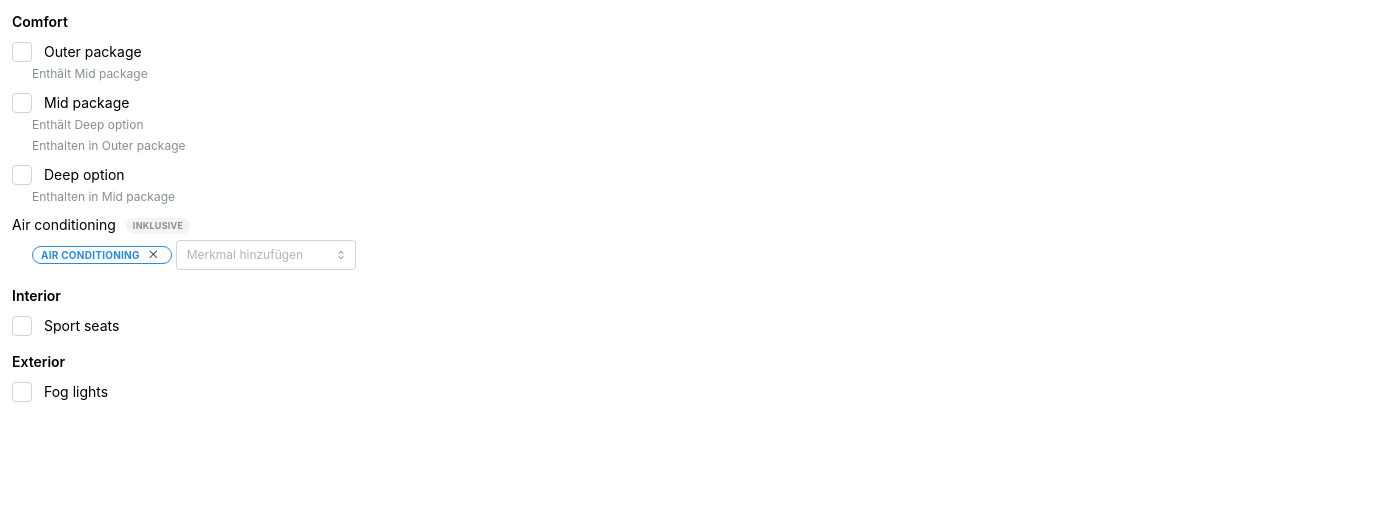
Scenario: OptionsTab › accepting an outer package offer also offers a nested package’s own missing contents
This screenshot has width=1378, height=518.
Step 1. Click the checkbox labelled "Outer package" → (22, 52), box [12, 42, 32, 62]
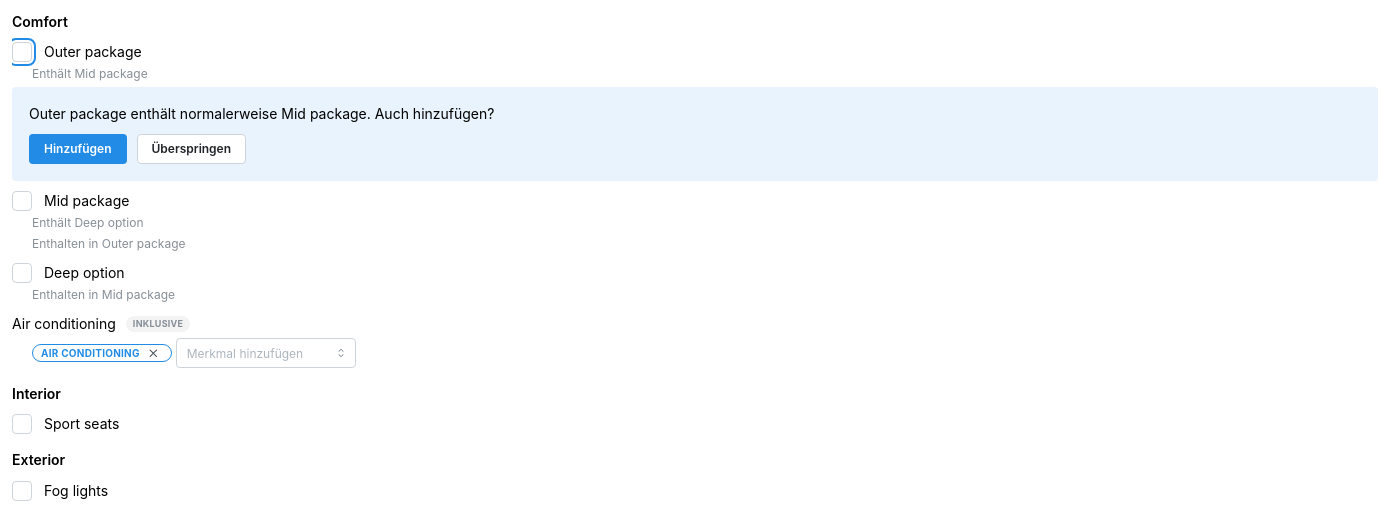
Now the text "Mid package" is shown, box [29, 105, 494, 122]
Step 2. Click the button "Hinzufügen" → (78, 149), box [29, 134, 126, 164]
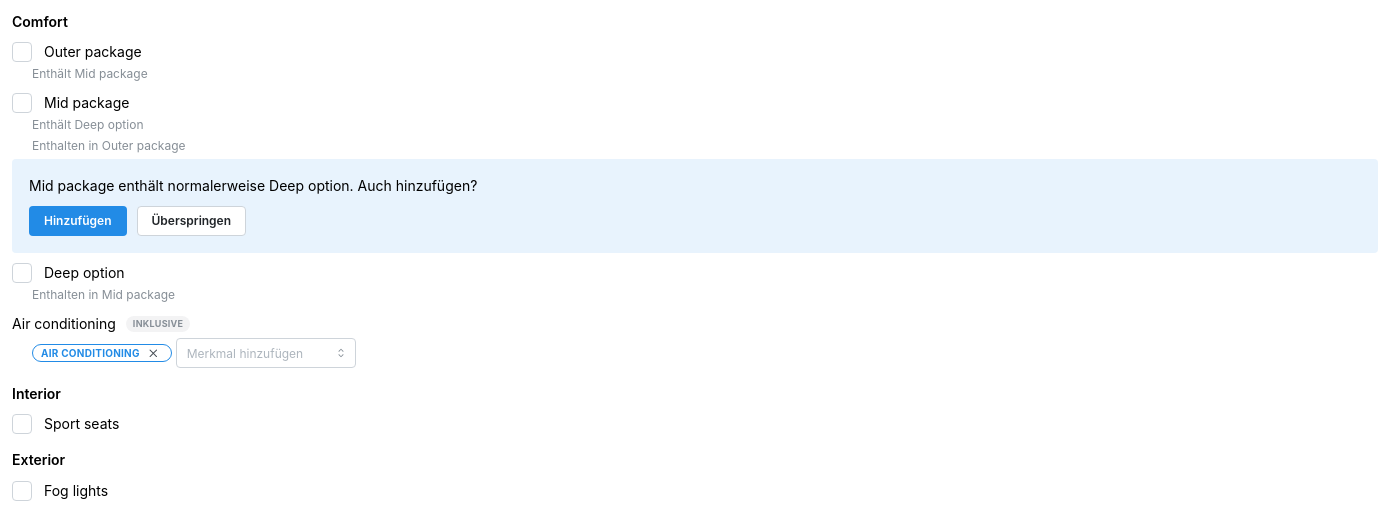
Now the text "Deep option" is shown, box [29, 177, 477, 194]
